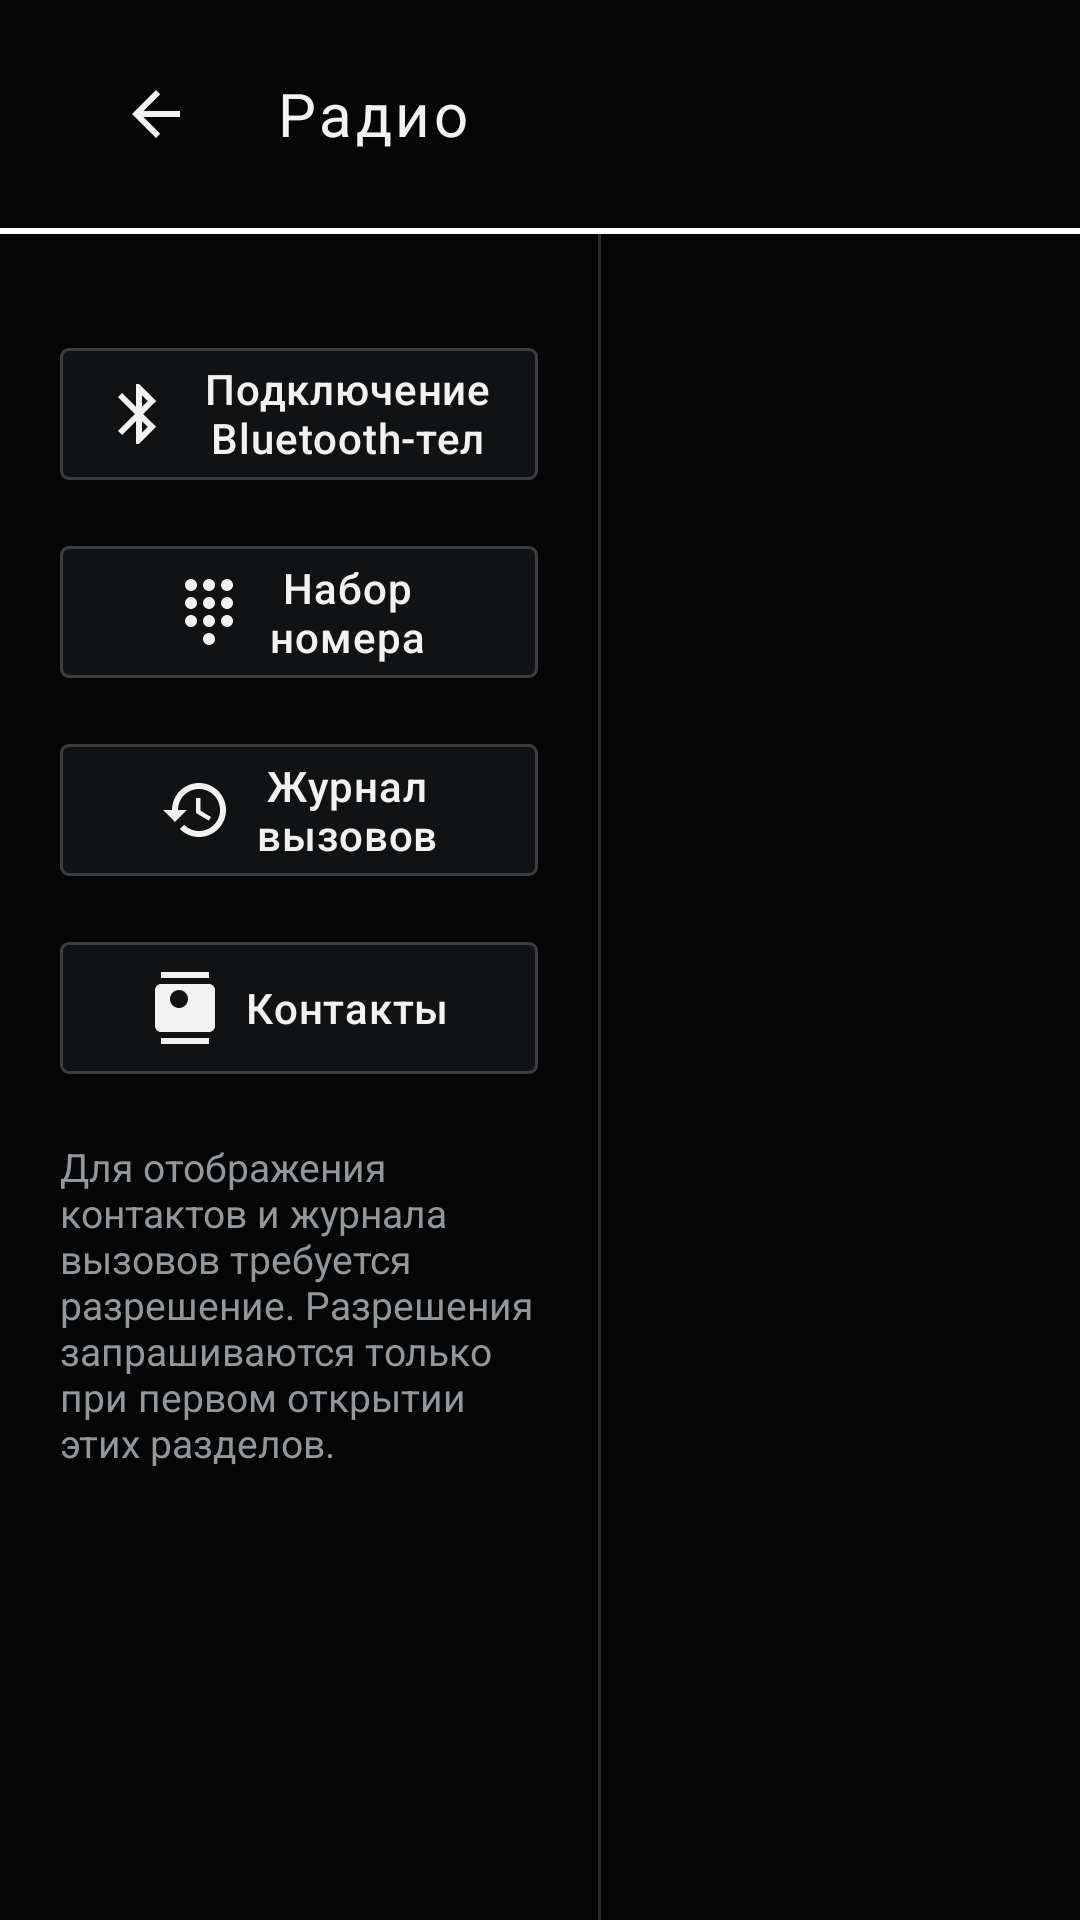

Where to tap for icons on this 1080 × 1920 app screen, as point (x, y):
Назад: point (156, 114)
